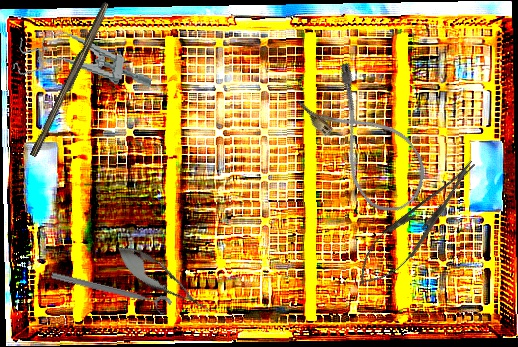Cannula: (293, 58, 440, 224)
Fixation Ring: (48, 268, 173, 318)
Micro Scissor: (107, 235, 220, 325)
Needle Holder: (346, 149, 489, 298)
Scalpel Handle: (29, 0, 113, 160)
Speculum: (11, 24, 158, 98)
